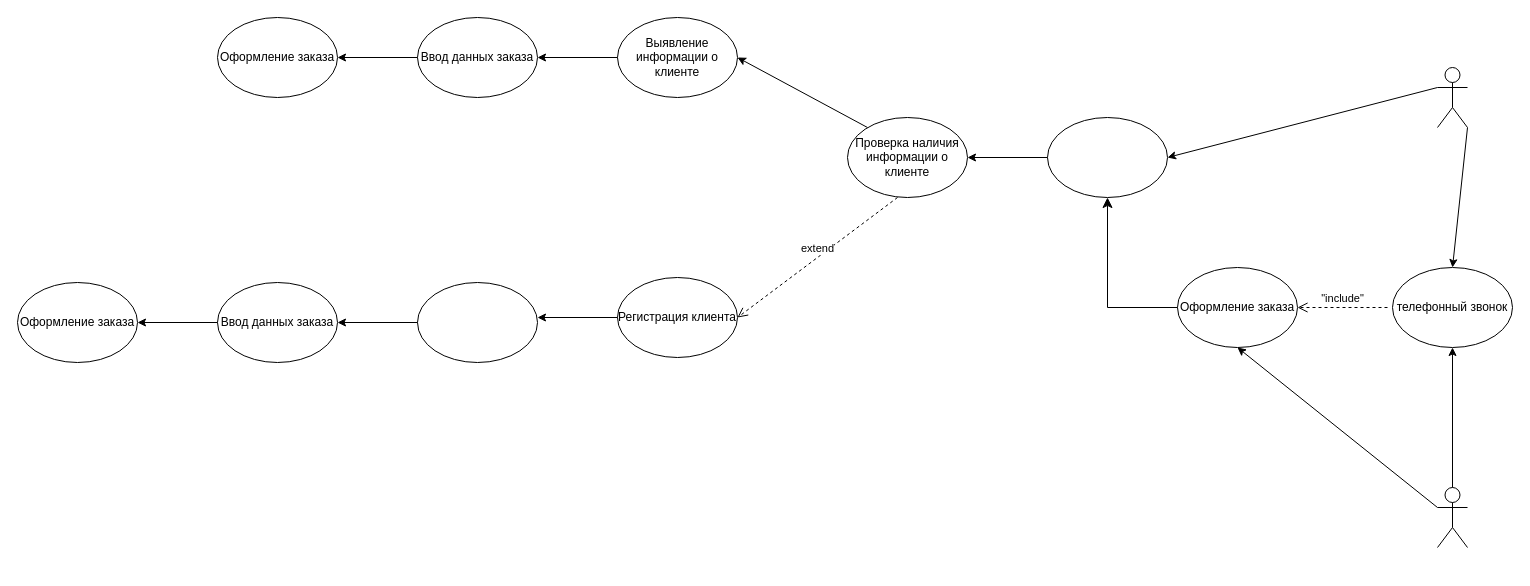
Image size: 1530x586. Some labels were removed from this diagram. The shapes that lost their labels are listed below. From the top down, each one's centre as x and y in pixels, then its label:
At (1452,97): "Сотрудник".
At (1107,157): "Уточнить данные клиента".
At (477,322): "Ввод информации о клиенте".
At (1452,517): "Клиент".
